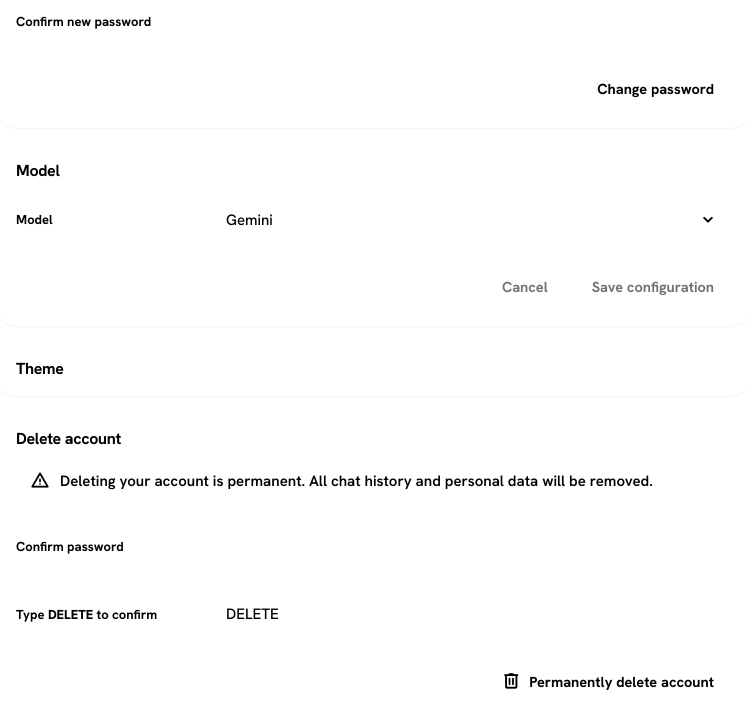
the model select lists the backend options and saves through /switch-provider
(page scrolled)
Expected: the button "Save configuration" is disabled, [574, 266, 732, 308]
Select "Openai" in the dropdown labelled "Model" at (472, 220), box [212, 198, 732, 242]
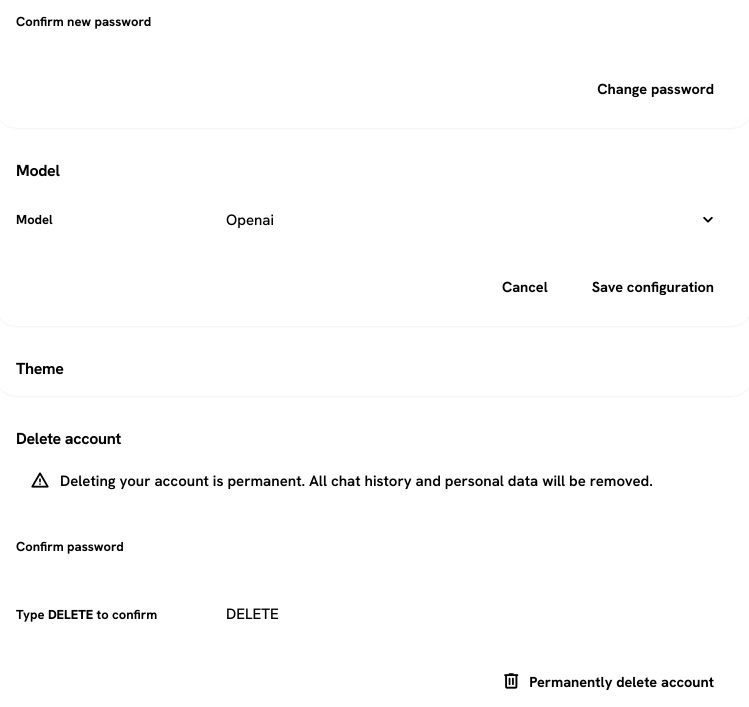
Click the button "Save configuration" at (653, 287), box [574, 266, 732, 308]
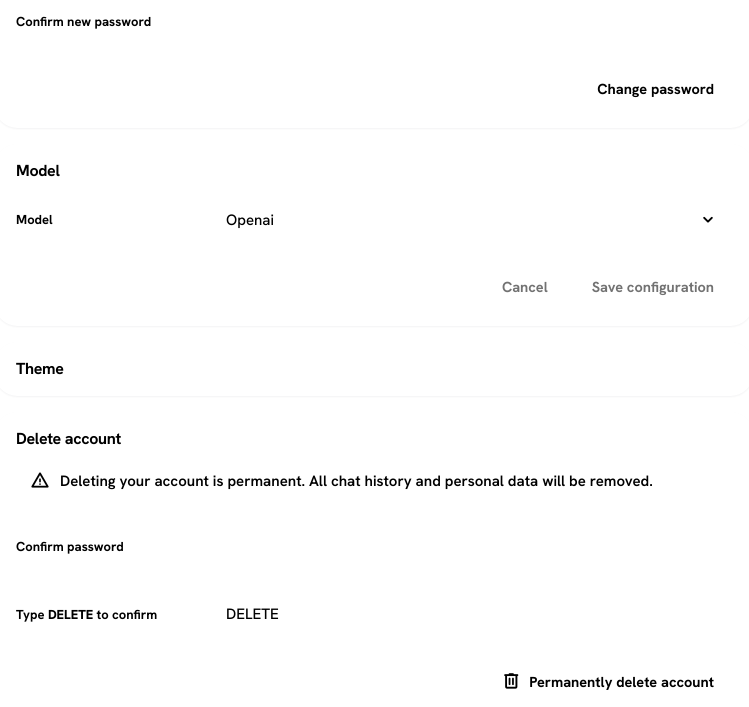
Now the button "Save configuration" is disabled, box [574, 266, 732, 308]
